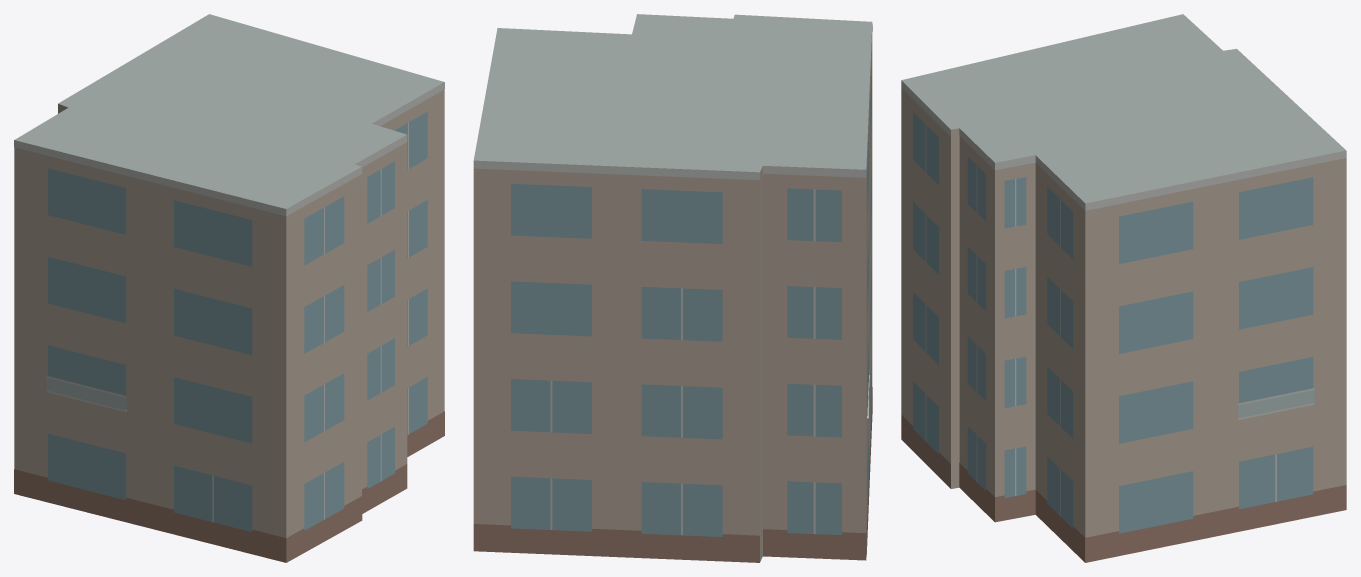
Rendered from survey-upis-32676608.glb.
3 views of the same model, side by side, from view 1: azimuth 30°, elevation 25°; view 2: azimuth 150°, elevation 25°; view 3: azimuth 270°, elevation 25° (orthographic). The views are drawn at different scales.
Visible parts, largest first — view 1: survey-upis-32676608.tmp; view 2: survey-upis-32676608.tmp; view 3: survey-upis-32676608.tmp.
Part boxes in pixels (<box>): survey-upis-32676608.tmp: <box>14,14,444,562</box>; survey-upis-32676608.tmp: <box>473,14,872,562</box>; survey-upis-32676608.tmp: <box>901,14,1346,562</box>.
Size of the model in its own units: 13.47 by 11.9 by 13.37.
